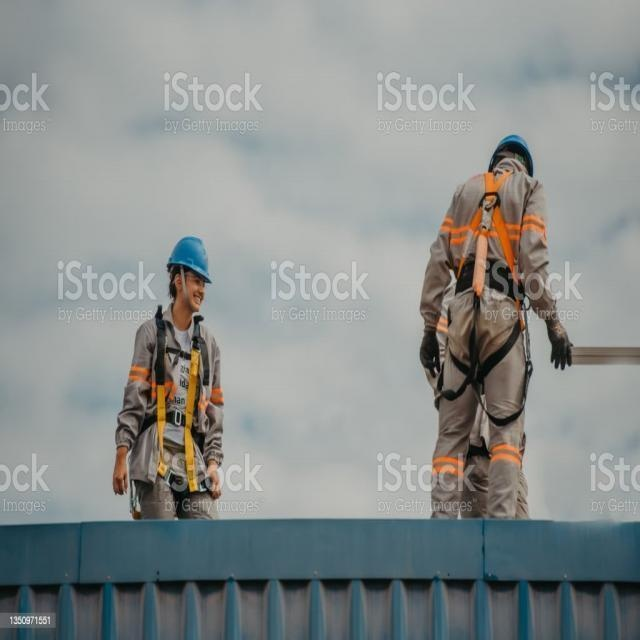Arnes_seguridad: (439, 168, 530, 415), (138, 308, 212, 499)
